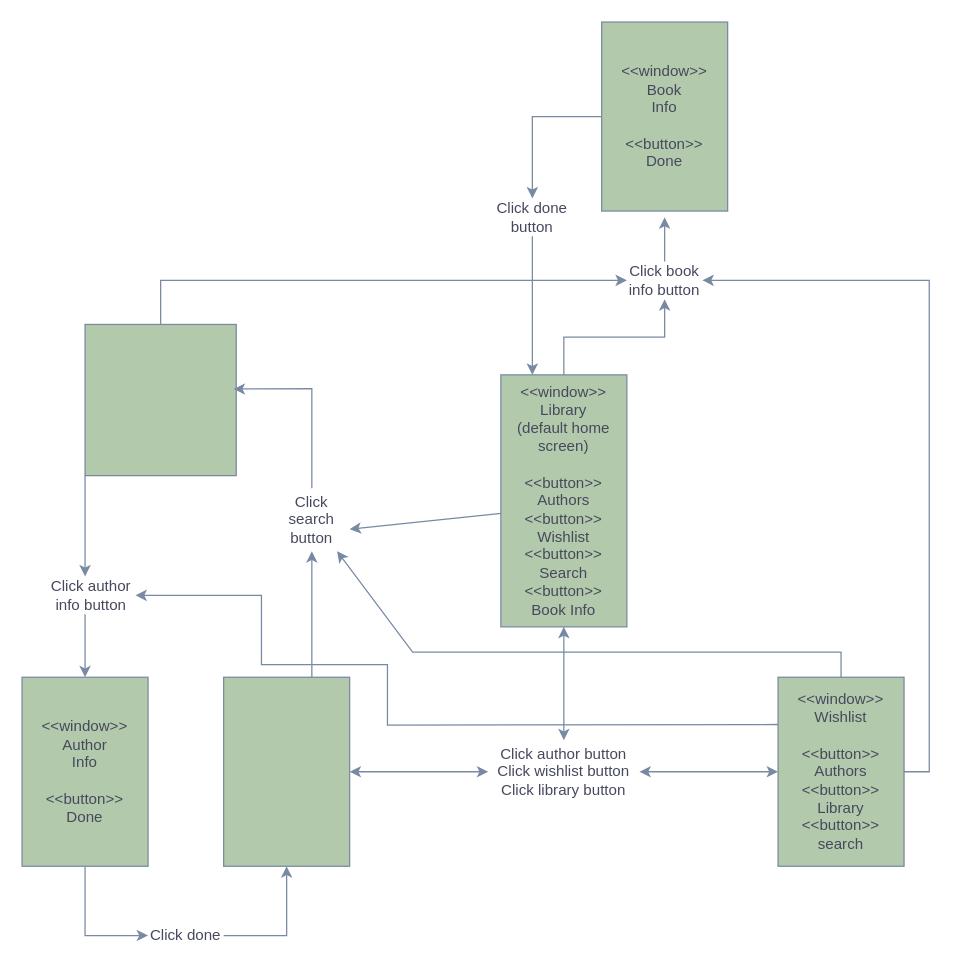
The diagram is 961 pixels wide and 977 high, and some of its shapes have lost their labels. The shapes that lost their labels are listed below. From the top down, each one's centre as x and y in pixels, then its label:
the point at 160,399: <<form>> Search << button>> Book Info <<button>> Author Info
the point at 286,771: <<window>> Authors <<button>> Library <<button>> Wishlist <<button>> search
